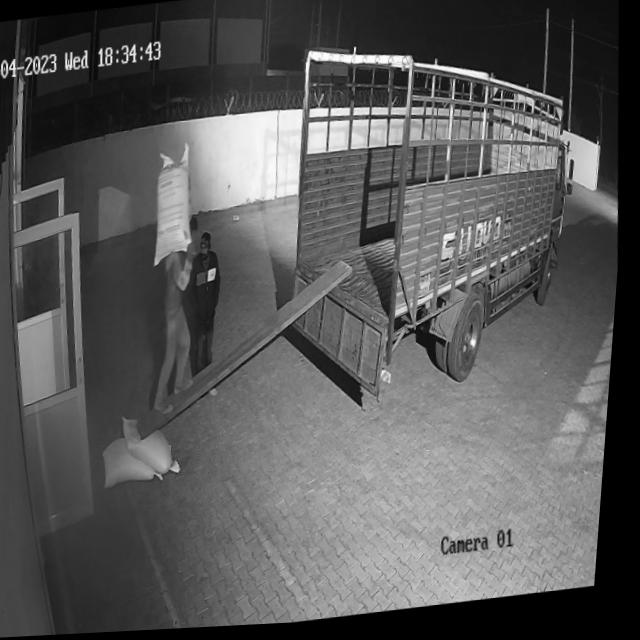sack: (150, 144, 202, 268), (125, 411, 191, 481), (106, 433, 173, 489)
